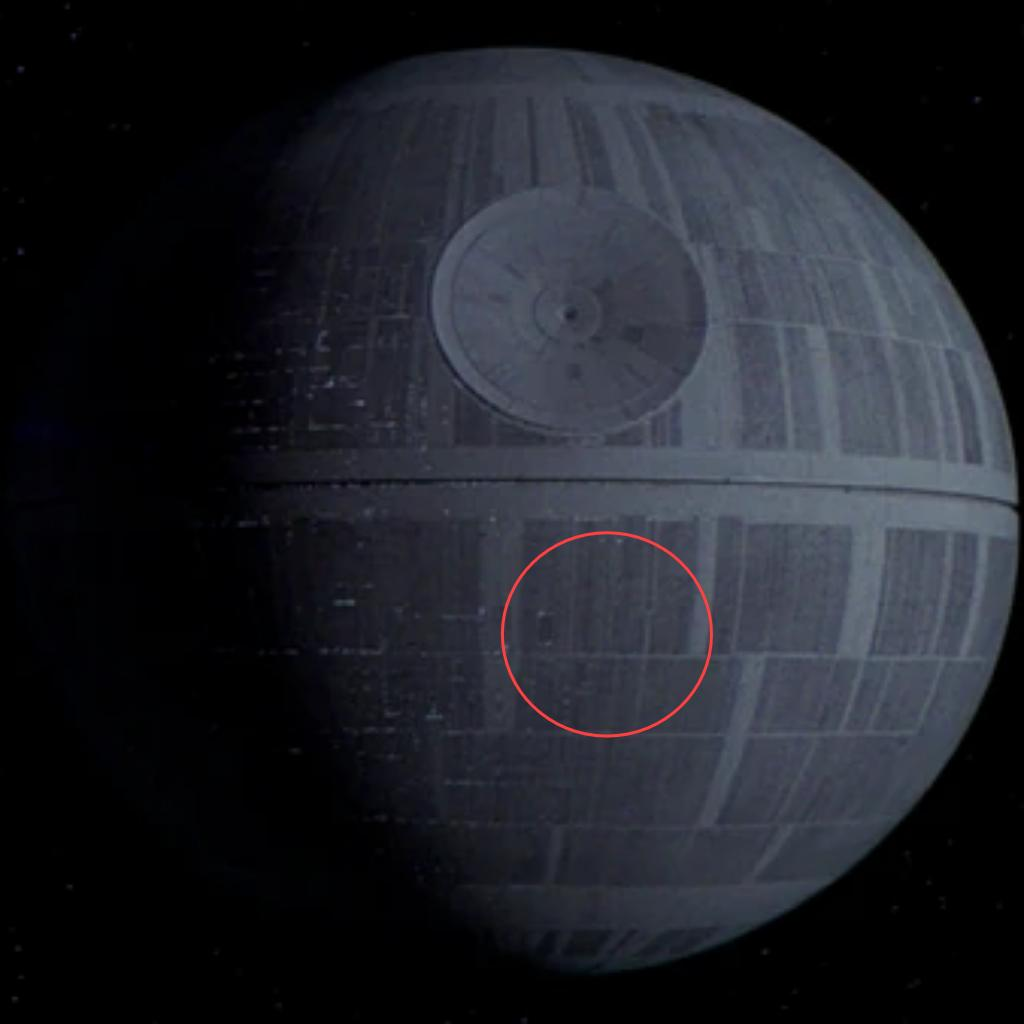Death-star: (6, 49, 1018, 972)
